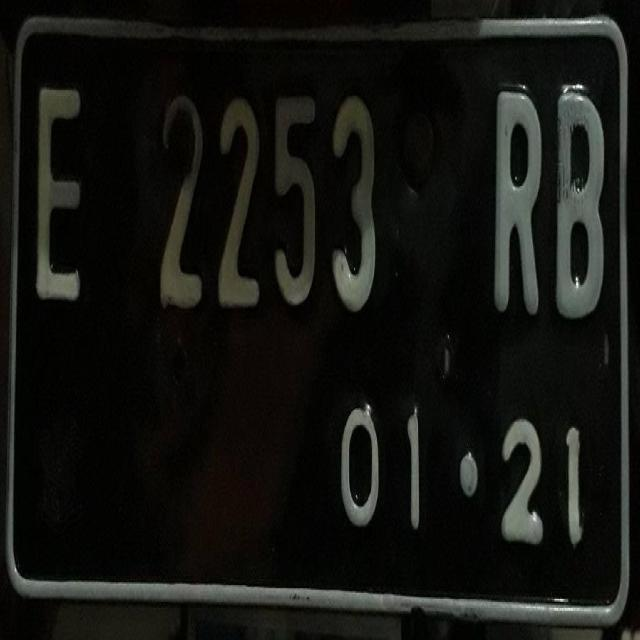plate: (10, 17, 631, 631)
